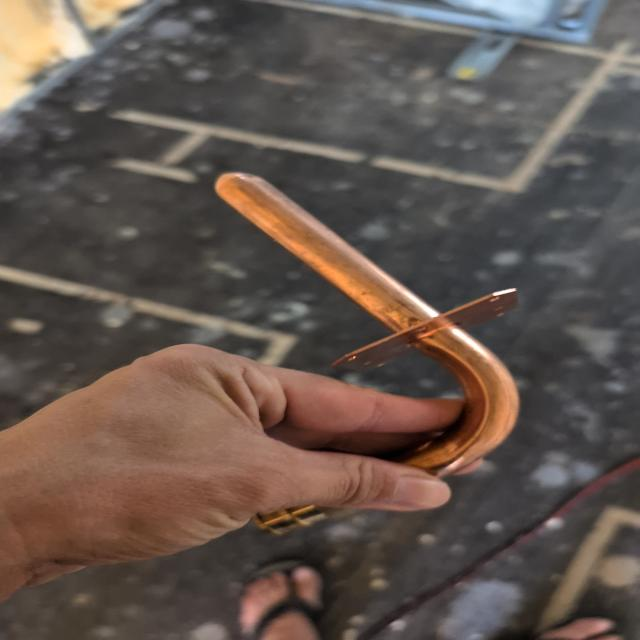wall_flange: (178, 168, 548, 538)
